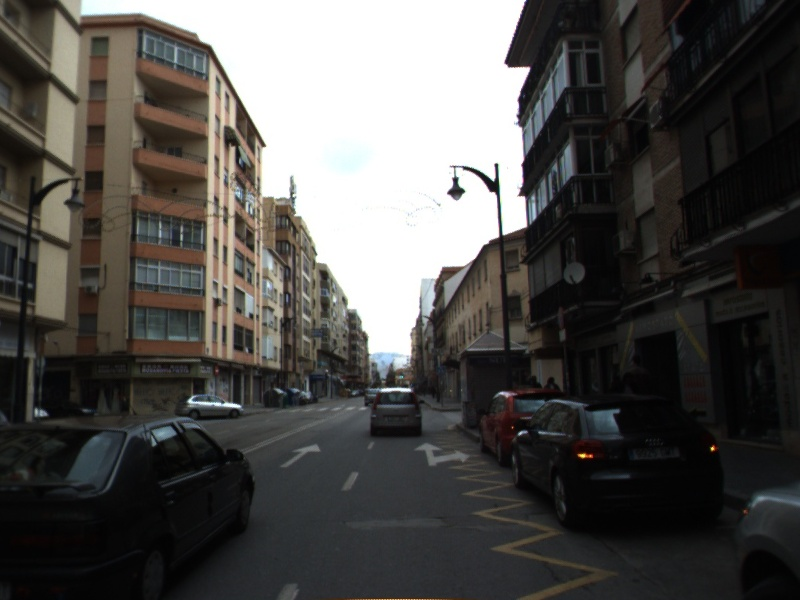STRAIGHT: (278, 441, 323, 469)
STRAIGHT_RIGHT: (411, 440, 473, 468)
